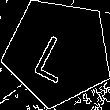L_NE: (33, 22, 83, 82)
